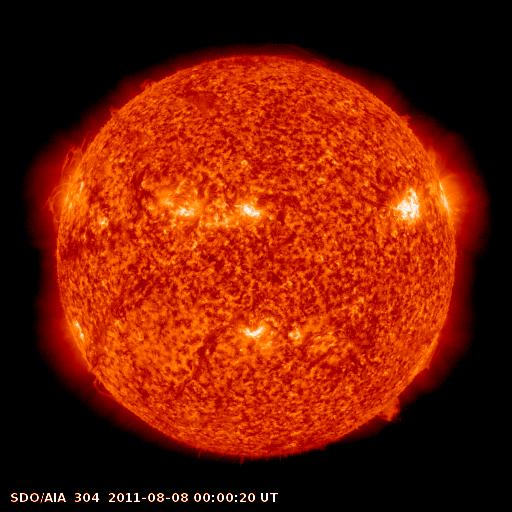prominence: (37, 132, 93, 226), (369, 386, 404, 426), (90, 367, 124, 407)
